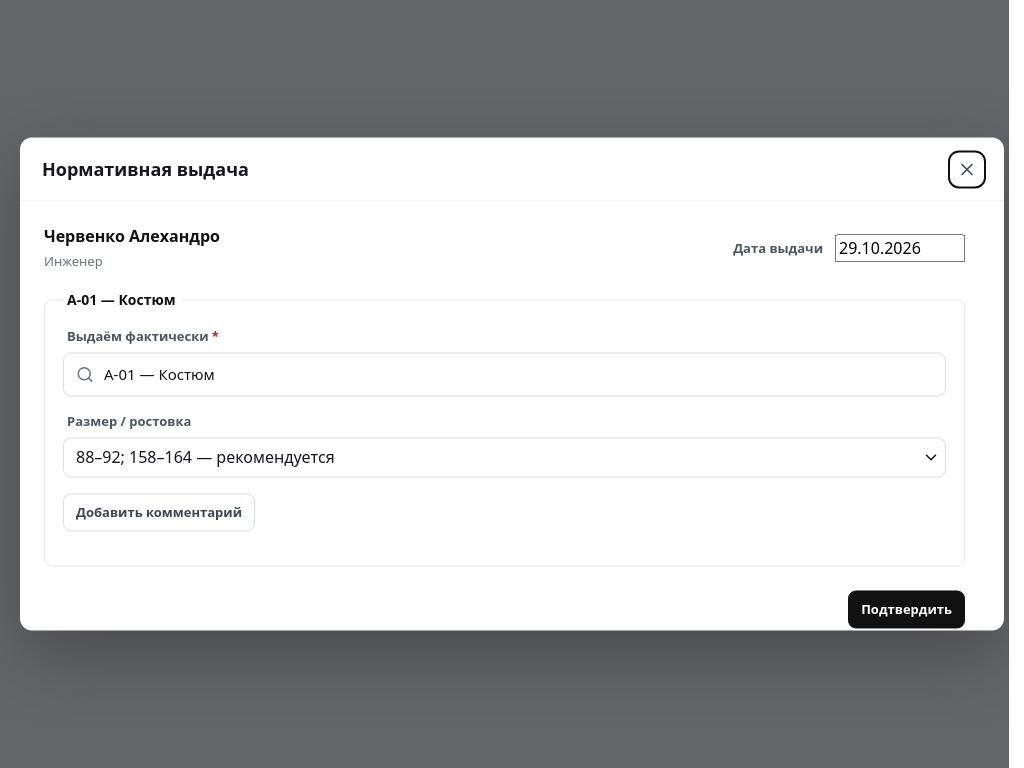
Test: PPE issue form › keeps the batch form open on an atomic failure without reporting partial success
Click the button "Подтвердить" at (907, 605), box [848, 586, 965, 624]
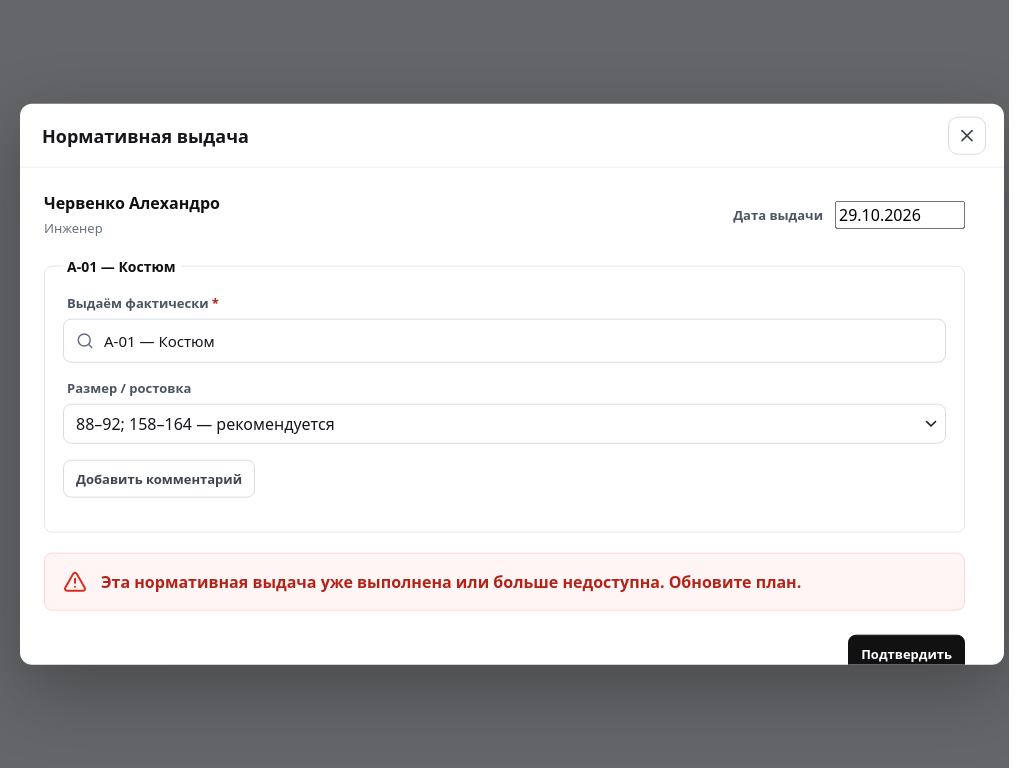
expect the message shows "уже выполнена или больше недоступна": met, box [101, 561, 801, 583]
